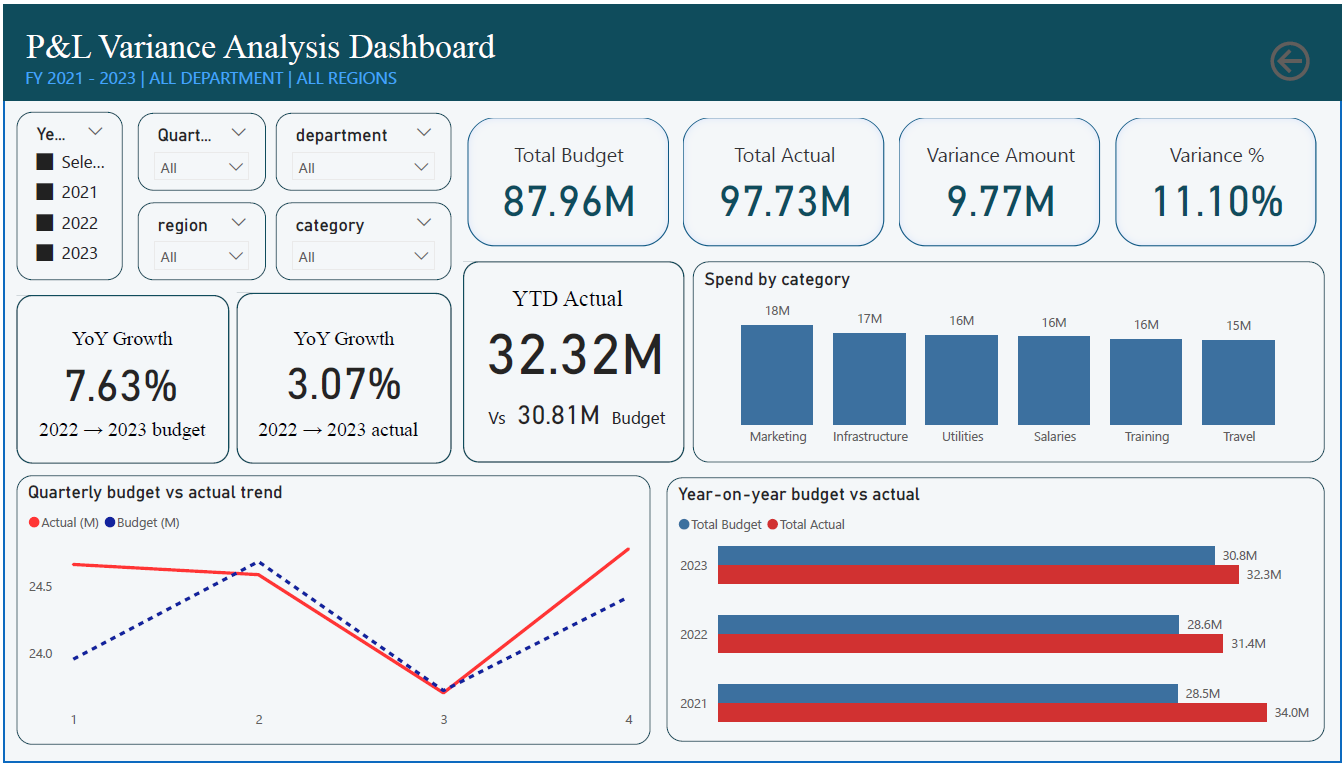

The page's visual inventory and layout, read from the dashboard file:
{"tool":"powerbi","page":{"name":"Overview","canvas":[1280,720],"ordinal":1},"visuals":[{"type":"shape","box":[9.6,0,1270.7,720.4],"z":0},{"type":"textbox","box":[9.6,0,1270.7,90.6],"z":1000},{"type":"cardVisual","fields":{"Data":["Fact_PL.Total Budget","Fact_PL.Total Actual","Fact_PL.Variance Amount","Fact_PL.Variance %"]},"box":[444.6,102.9,819.2,131.7],"z":2000},{"type":"lineChart","title":"Quarterly budget vs actual trend","fields":{"Y":["Fact_PL.Actual (M)"],"Y2":["Fact_PL.Budget (M)"],"Category":["Fact_PL.Quarter_Num"]},"box":[22,447.3,602.4,255.2],"z":3000},{"type":"clusteredBarChart","title":"Year-on-year budget vs actual","fields":{"Category":["Fact_PL.Year"],"Y":["Fact_PL.Total Budget","Fact_PL.Total Actual"]},"box":[639.5,448.7,624.4,251.1],"z":4000},{"type":"columnChart","title":"Spend by category","fields":{"Category":["Fact_PL.category"],"Y":["Fact_PL.Total Actual"]},"box":[664.2,244.3,599.7,190.7],"z":5000},{"type":"card","title":"Year-on-year budget vs actual","fields":{"Values":["Fact_PL.YTD Actual"]},"box":[455.6,253.9,193.5,141.3],"z":6000},{"type":"card","title":"Year-on-year budget vs actual","fields":{"Values":["Fact_PL.YTD Budget"]},"box":[433.6,318.4,205.8,140],"z":7000},{"type":"textbox","box":[465.2,376,199,52.1],"z":8000},{"type":"shape","box":[446,244.3,209.9,190.7],"z":9000},{"type":"textbox","box":[455.6,262.1,189.4,46.7],"z":10000},{"type":"shape","box":[230.5,274.4,204.5,161.9],"z":11000},{"type":"card","fields":{"Values":["Fact_PL.YTD YoY Display"]},"box":[238.8,300.5,188,109.8],"z":12000},{"type":"textbox","box":[249.7,300.5,166,49.4],"z":13000},{"type":"textbox","box":[238.8,388.3,177,59],"z":14000},{"type":"shape","box":[22,275.8,201.7,160.5],"z":15000},{"type":"card","fields":{"Values":["Fact_PL.Budget YoY Growth %"]},"box":[49.4,308.7,144.1,97.4],"z":16000},{"type":"textbox","box":[31.6,300.5,181.1,49.4],"z":17000},{"type":"textbox","box":[31.6,388.3,181.1,57.6],"z":18000},{"type":"slicer","fields":{"Values":["Fact_PL.Year"]},"box":[22,101.5,101.5,160.5],"z":19000},{"type":"slicer","fields":{"Values":["Fact_PL.Quarter"]},"box":[137.2,102.9,122.1,74.1],"z":20000},{"type":"slicer","fields":{"Values":["Fact_PL.department"]},"box":[267.6,102.9,167.4,74.1],"z":21000},{"type":"slicer","fields":{"Values":["Fact_PL.region"]},"box":[137.2,188,122.1,74.1],"z":22000},{"type":"slicer","fields":{"Values":["Fact_PL.category"]},"box":[267.6,188,167.4,74.1],"z":23000},{"type":"actionButton","box":[1197.9,16.5,65.9,74.1],"z":24000}]}

Visuals, with their boxes in screenshot pixels (x1, y1, x2, y2), scaled from the page's 1280x720 canvas onto the 1343x763 screenshot:
shape: select_region(10, 0, 1342, 762)
textbox: select_region(10, 0, 1342, 96)
cardVisual - Fact_PL.Total Budget x Fact_PL.Total Actual: select_region(466, 109, 1326, 249)
"Quarterly budget vs actual trend" lineChart: select_region(23, 474, 655, 744)
"Year-on-year budget vs actual" clusteredBarChart: select_region(671, 475, 1326, 742)
"Spend by category" columnChart: select_region(697, 259, 1326, 461)
"Year-on-year budget vs actual" card: select_region(478, 269, 681, 419)
"Year-on-year budget vs actual" card: select_region(455, 337, 671, 486)
textbox: select_region(488, 398, 697, 454)
shape: select_region(468, 259, 688, 461)
textbox: select_region(478, 278, 677, 327)
shape: select_region(242, 291, 456, 462)
card - Fact_PL.YTD YoY Display: select_region(251, 318, 448, 435)
textbox: select_region(262, 318, 436, 371)
textbox: select_region(251, 411, 436, 474)
shape: select_region(23, 292, 235, 462)
card - Fact_PL.Budget YoY Growth %: select_region(52, 327, 203, 430)
textbox: select_region(33, 318, 223, 371)
textbox: select_region(33, 411, 223, 473)
slicer - Fact_PL.Year: select_region(23, 108, 130, 278)
slicer - Fact_PL.Quarter: select_region(144, 109, 272, 188)
slicer - Fact_PL.department: select_region(281, 109, 456, 188)
slicer - Fact_PL.region: select_region(144, 199, 272, 278)
slicer - Fact_PL.category: select_region(281, 199, 456, 278)
actionButton: select_region(1257, 17, 1326, 96)
